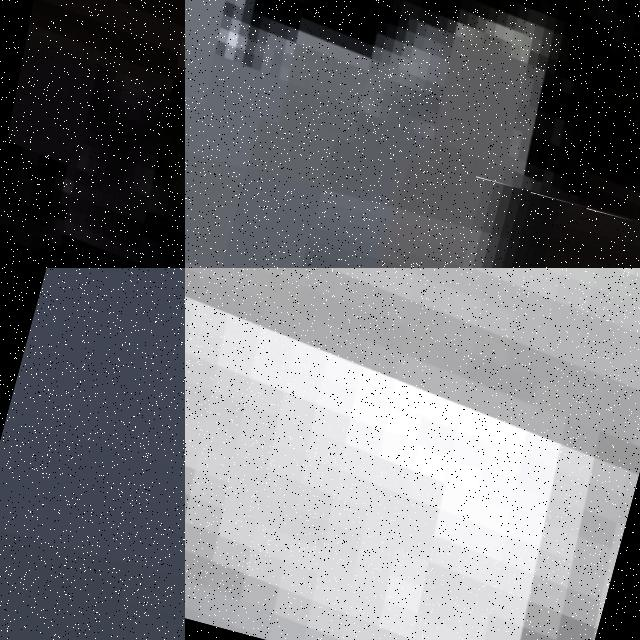drone: (185, 268, 640, 640), (185, 0, 640, 244), (0, 0, 185, 268)
